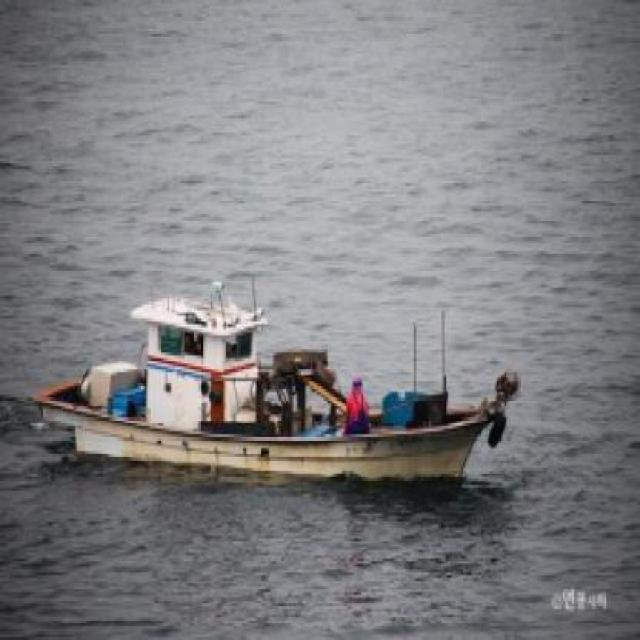fish-b: (20, 263, 531, 511)
